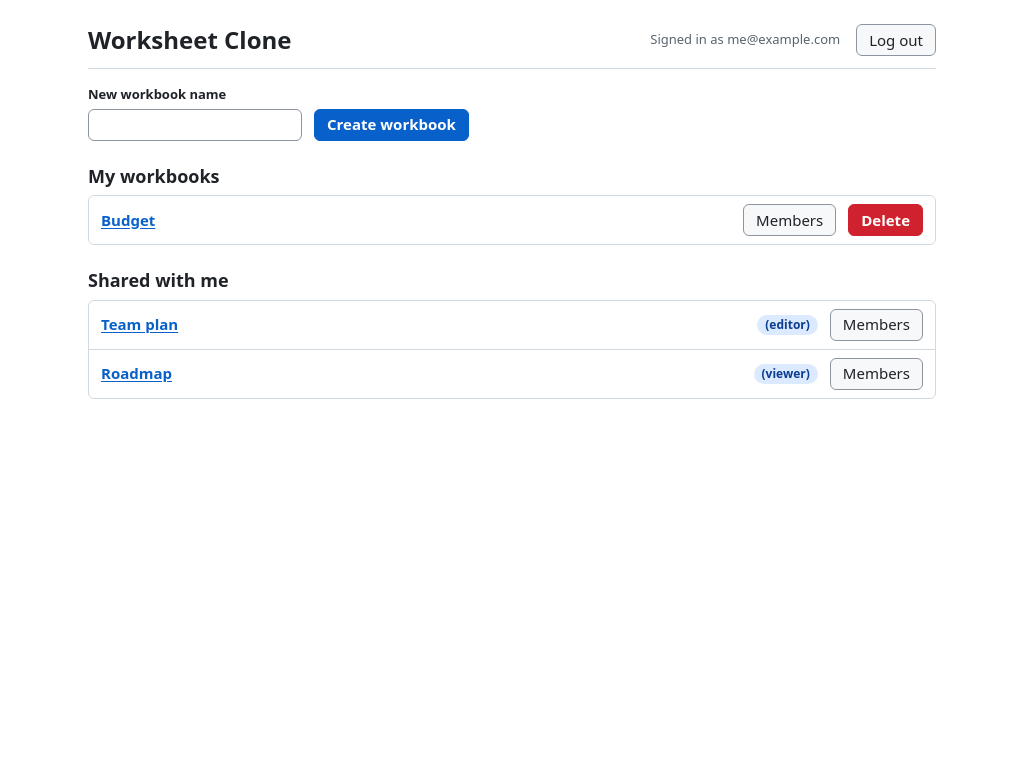
WorkbooksPage › deletes only after confirming
What coordinates should you click on to do the following:
click the button with aria-label "Delete Budget"
I would click on:
 (886, 220)
Its box is left=848, top=204, right=923, bottom=236.
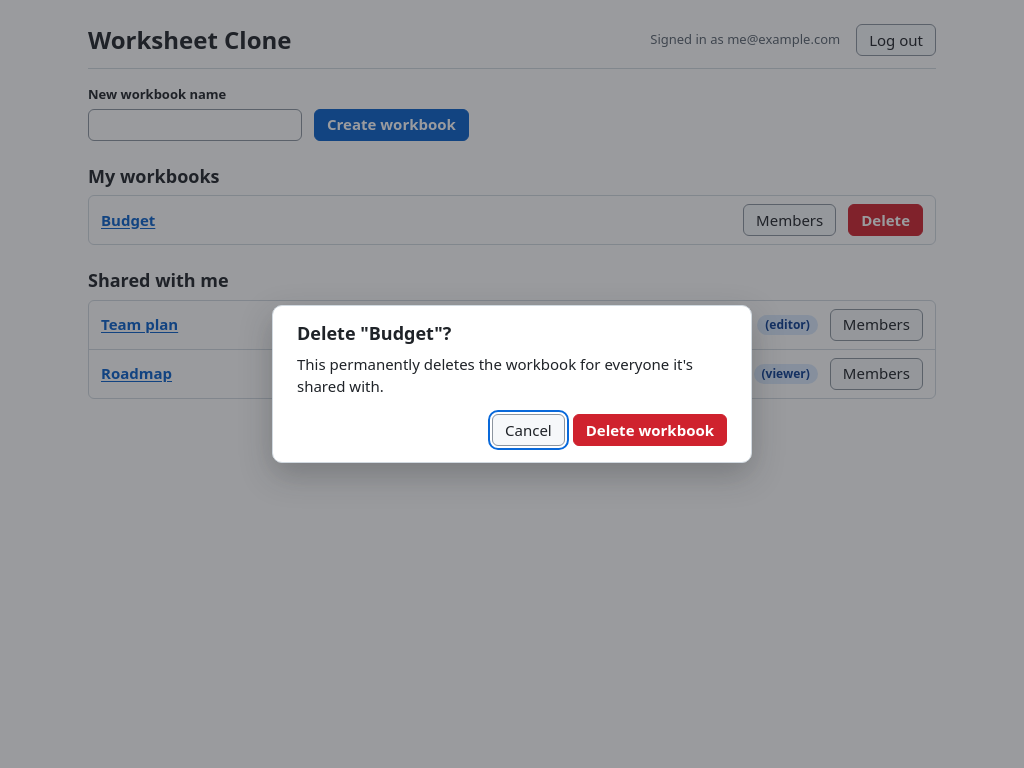
What coordinates should you click on to do the following:
click the button "Cancel"
I would click on:
 (528, 430)
Its box is left=492, top=414, right=565, bottom=446.
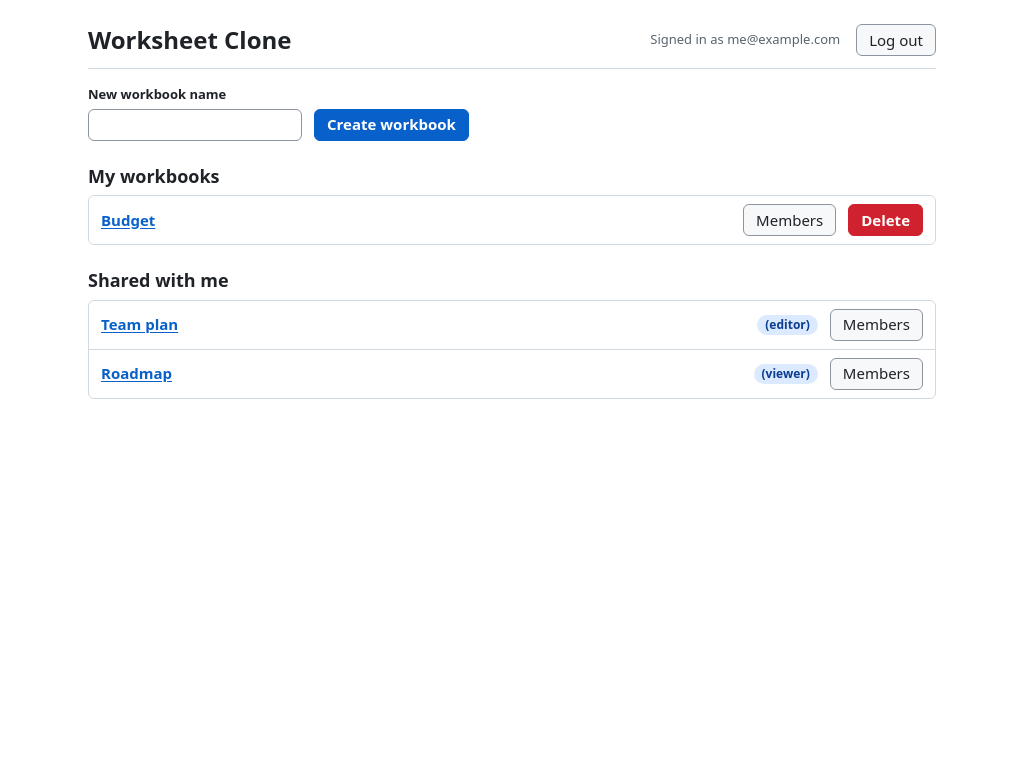
Expected: the dialog is gone
What coordinates should you click on to do the following:
click the button with aria-label "Delete Budget"
I would click on:
 (886, 220)
Its box is left=848, top=204, right=923, bottom=236.
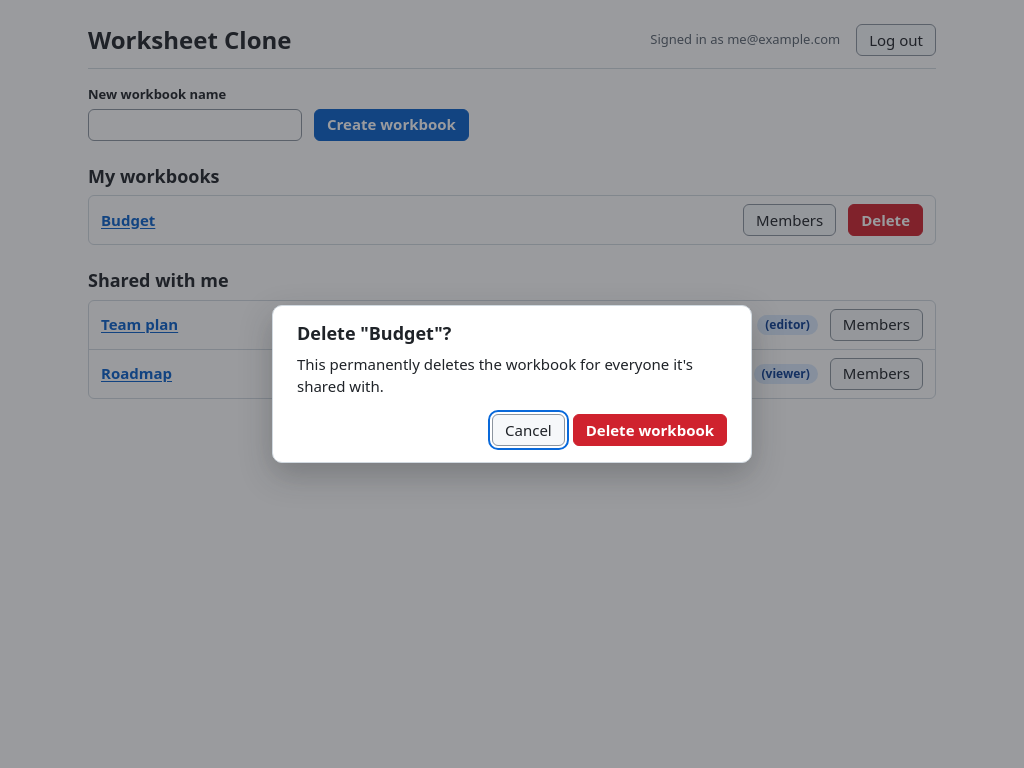
What coordinates should you click on to do the following:
click the button "Delete workbook"
I would click on:
 (650, 430)
Its box is left=573, top=414, right=727, bottom=446.
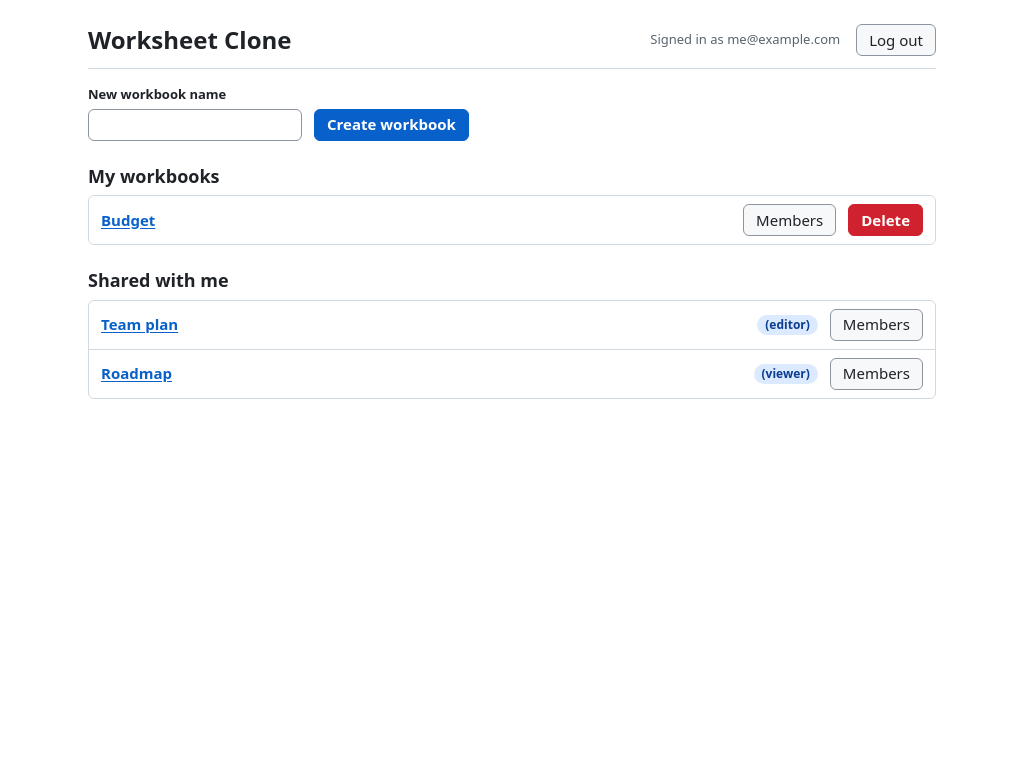
Expected: the dialog is gone
